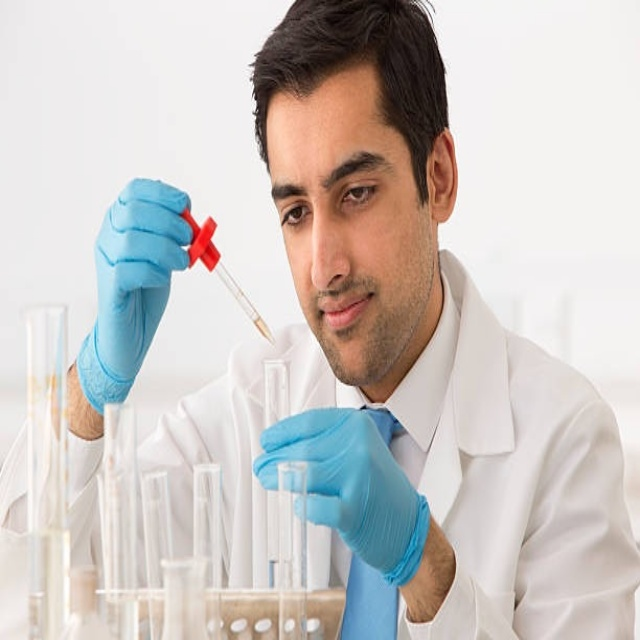Guantes: (253, 405, 429, 582), (75, 177, 194, 411)
Sin_gafas: (274, 138, 391, 234)
Sin_mascara: (314, 273, 379, 370)
